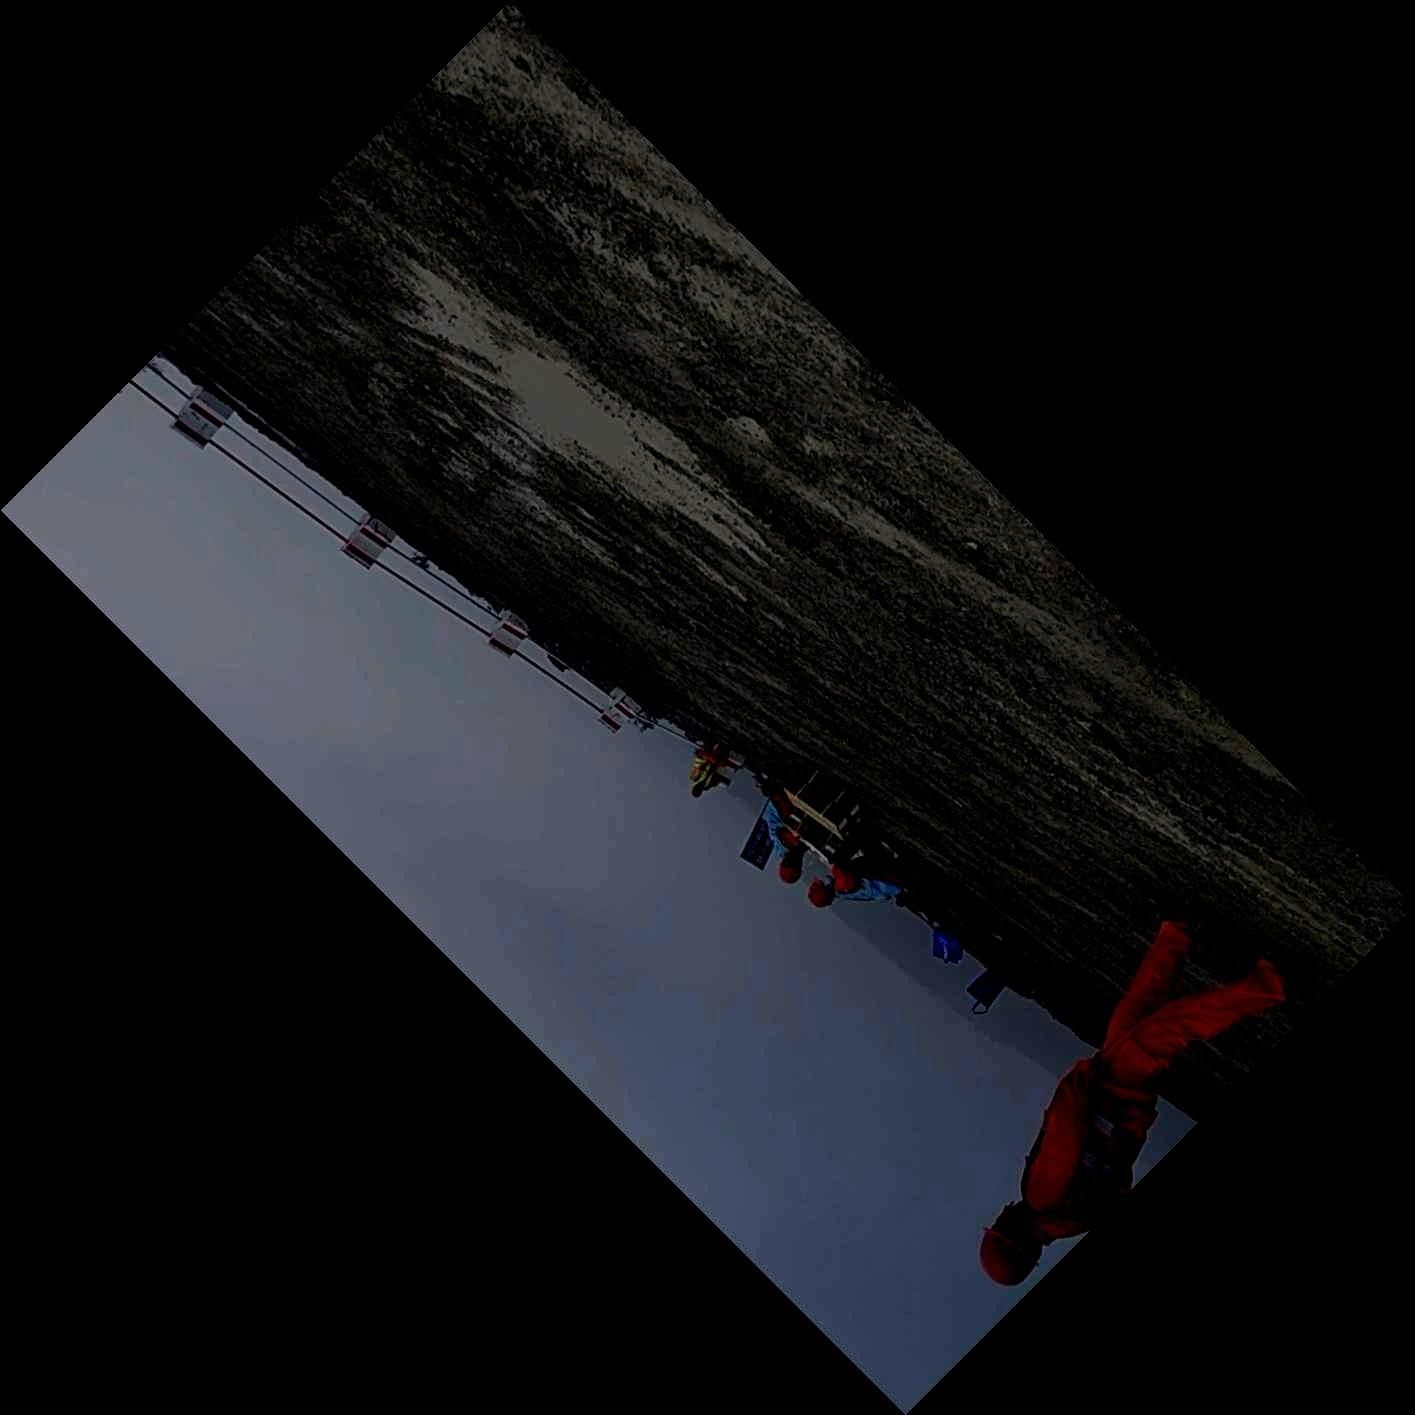helmet: (980, 1200, 1043, 1285), (809, 875, 836, 908), (777, 853, 803, 884), (691, 784, 704, 798)
